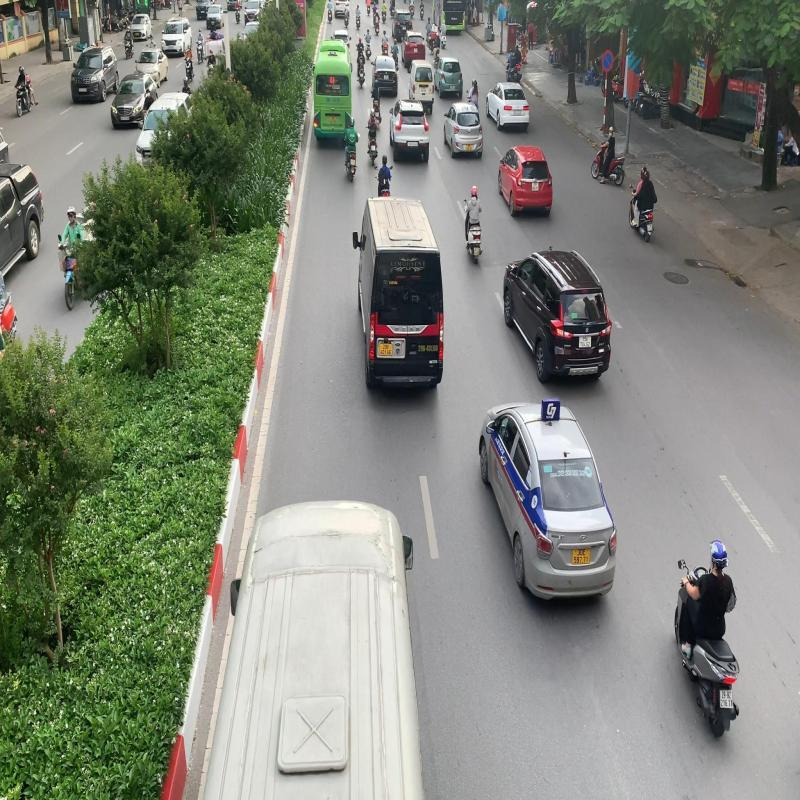helmet: (708, 538, 728, 570)
licenseplate: (718, 688, 734, 709)
motorcyclist: (672, 536, 740, 740)
